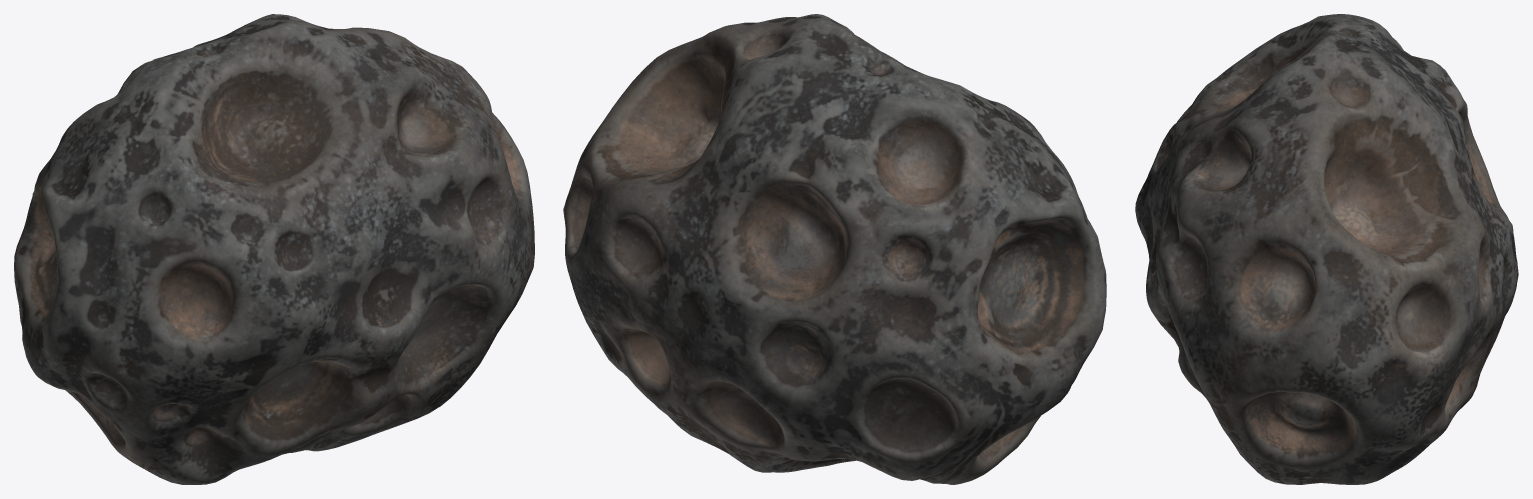
Rendered from Asteroid_2b.obj.
3 views of the same model, side by side, from view 1: azimuth 30°, elevation 25°; view 2: azimuth 150°, elevation 25°; view 3: azimuth 270°, elevation 25° (orthographic). The views are drawn at different scales.
Parts seen in each view (by area): view 1: obj1; view 2: obj1; view 3: obj1.
Part boxes in pixels (bbox=[...]): obj1: bbox=[14, 14, 534, 484]; obj1: bbox=[563, 14, 1106, 484]; obj1: bbox=[1135, 14, 1518, 484].
Size of the model in its own units: 2.3 by 1.94 by 1.61.
1 material, 1 textured.
